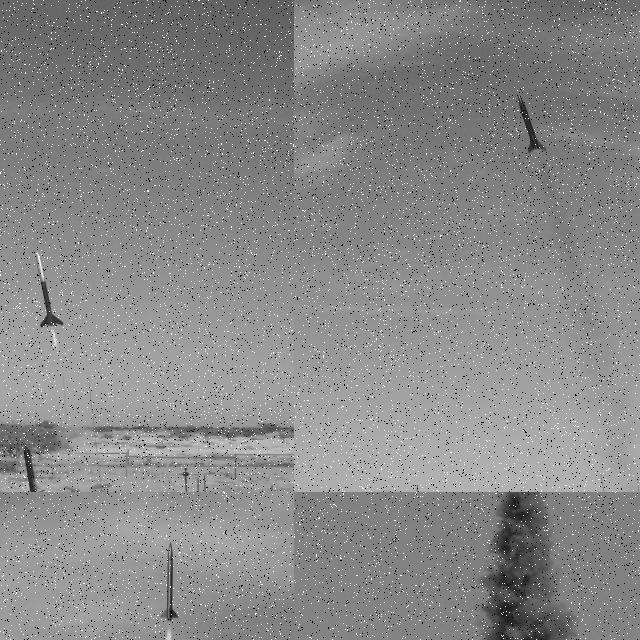Rocket: (35, 251, 64, 328), (517, 93, 547, 154), (160, 541, 179, 623), (23, 445, 40, 492)
